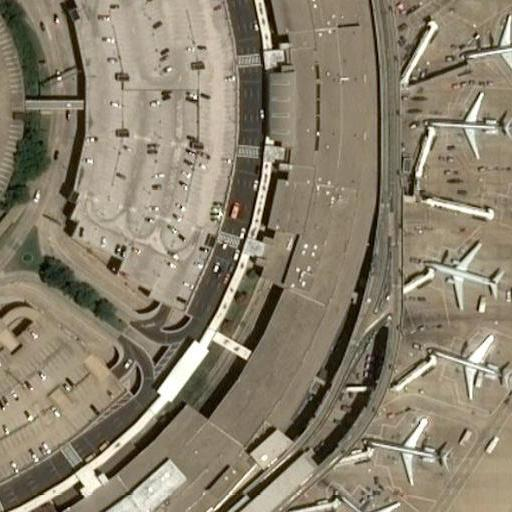Aircraft: (419, 237, 509, 311), (427, 94, 512, 159), (367, 417, 454, 478), (431, 337, 512, 393), (466, 14, 512, 74), (341, 494, 410, 512)
